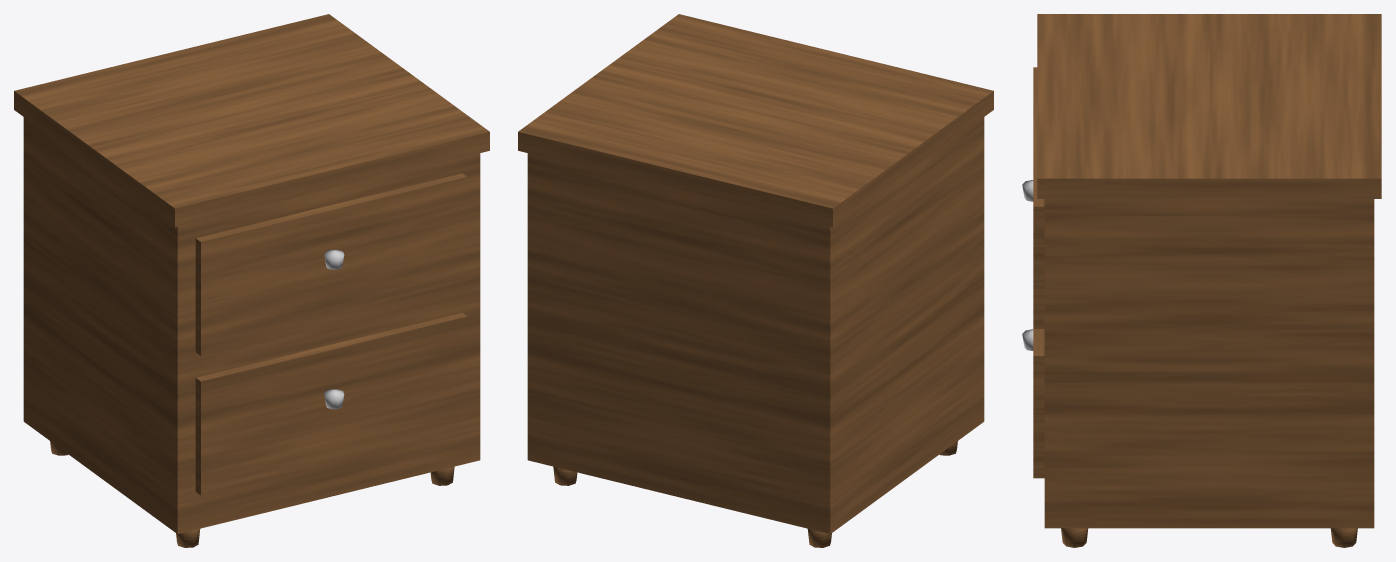
Rendered from nightstand.glb.
The picture shows the model from 3 angles, left to right: view 1: azimuth 30°, elevation 25°; view 2: azimuth 150°, elevation 25°; view 3: azimuth 270°, elevation 25°; orthographic projection. The views are drawn at different scales.
Visible parts, largest first — view 1: Nightstand; view 2: Nightstand; view 3: Nightstand.
Boxes of the visible parts, left/top/right/bottom form: Nightstand: left=14, top=14, right=489, bottom=547; Nightstand: left=518, top=14, right=993, bottom=547; Nightstand: left=1022, top=14, right=1381, bottom=547.
Bounding box in the file's own units: 0.52 × 0.56 × 0.48.
Materials: 2 (1 with a texture image).
